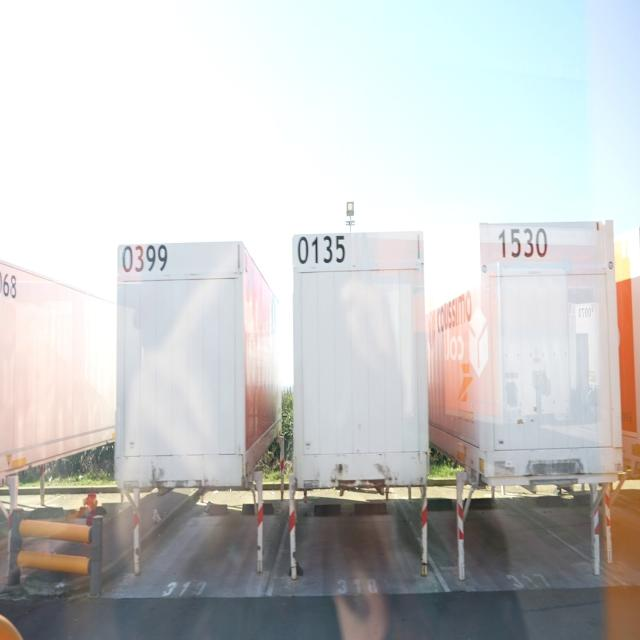Code: (117, 233, 172, 281), (496, 221, 554, 262), (295, 229, 349, 269)
